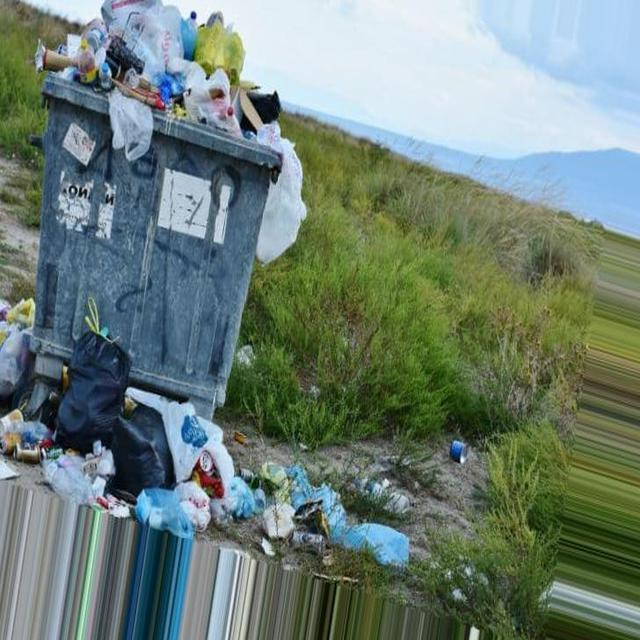garbage: (0, 320, 269, 530), (41, 0, 306, 163), (270, 461, 420, 590)
